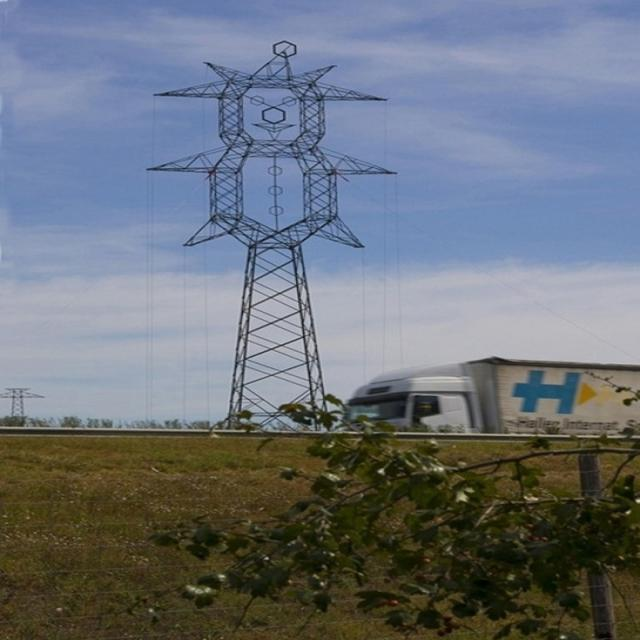non-critical vegetation: (146, 52, 392, 426)
